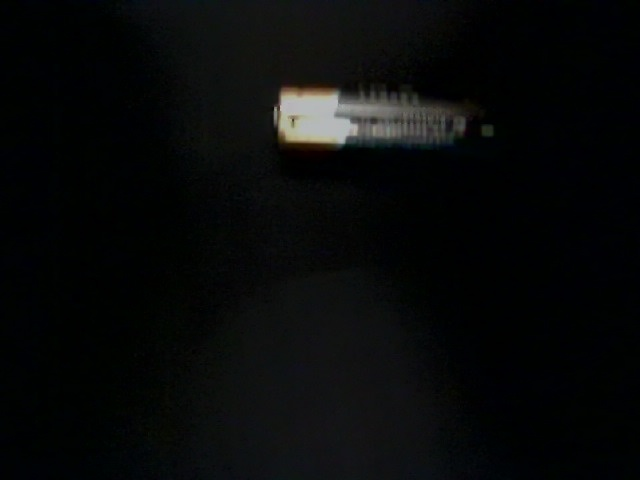QTLJ: (84, 1, 289, 134)
